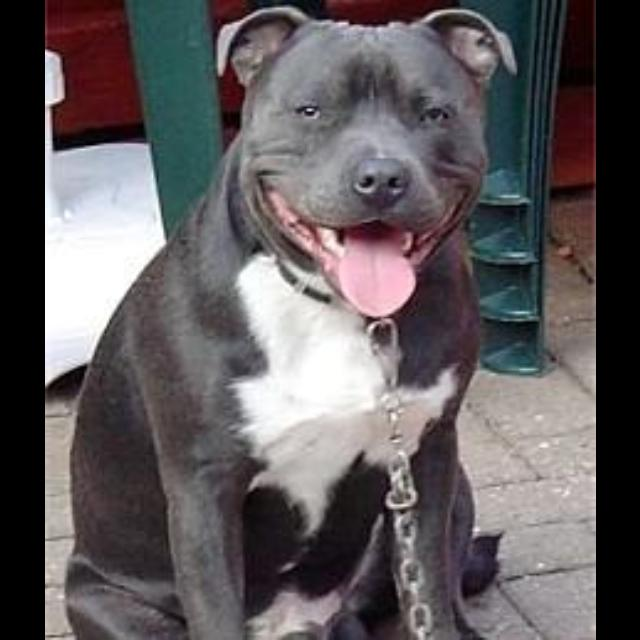staffford: (60, 4, 517, 639)
